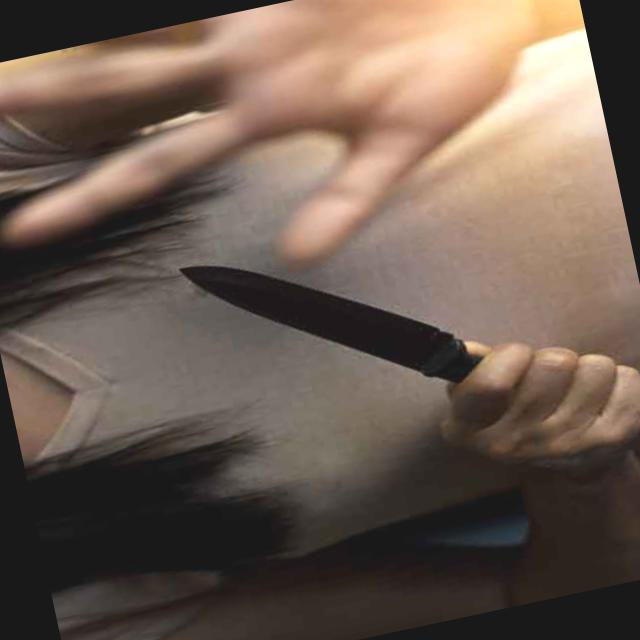knife: (163, 170, 639, 523)
